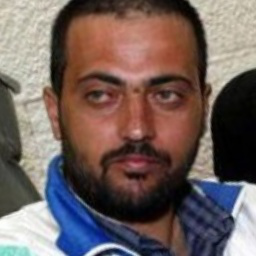Person: (10, 3, 242, 256)
